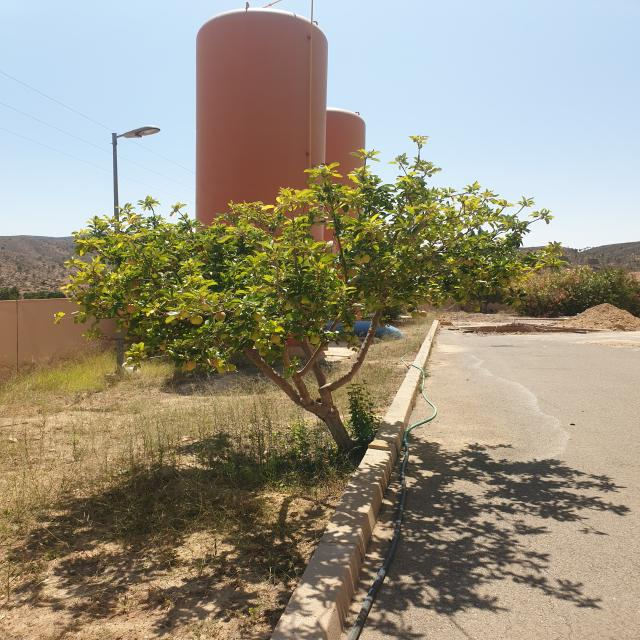Tree: (63, 137, 560, 452)
